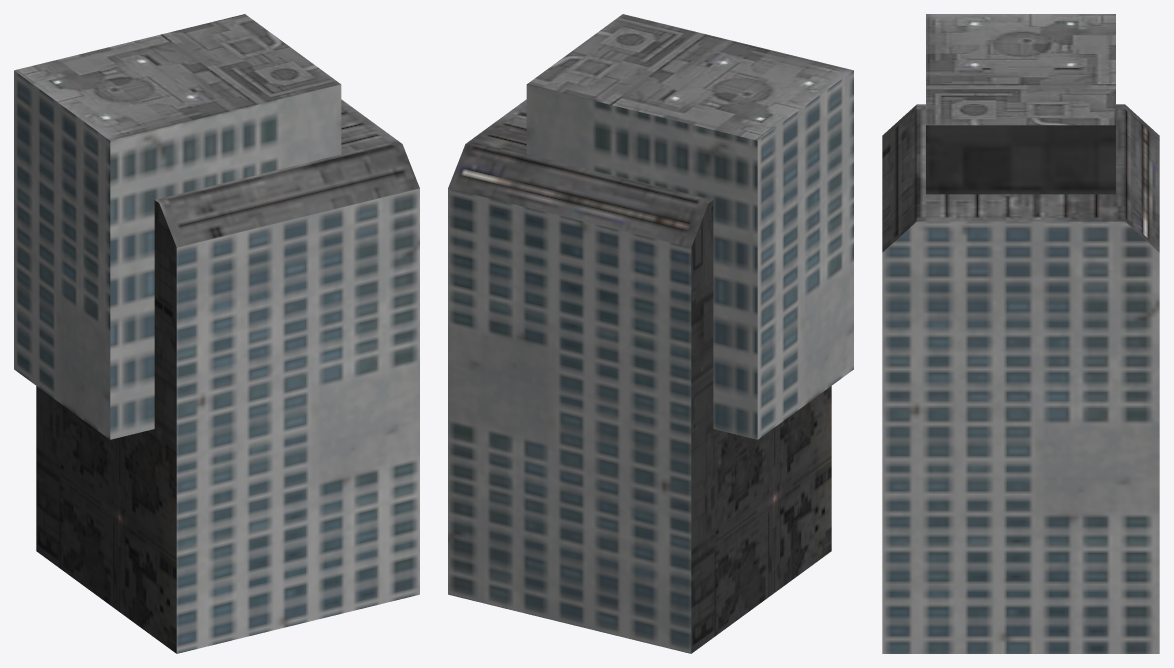
The model's file is scifi_building_18.obj.
The picture shows the model from 3 angles, left to right: view 1: azimuth 30°, elevation 25°; view 2: azimuth 150°, elevation 25°; view 3: azimuth 270°, elevation 25°; orthographic projection.
Parts seen in each view (by area): view 1: building_18; view 2: building_18; view 3: building_18.
Boxes of the visible parts, x1,y1,x2,y2 form: building_18: (14, 14, 419, 653); building_18: (448, 14, 853, 653); building_18: (882, 14, 1159, 653).
Size of the model in its own units: 50 by 84.36 by 42.28.
Materials: 1 (1 with a texture image).
